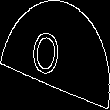O_S: (37, 24, 73, 86)
